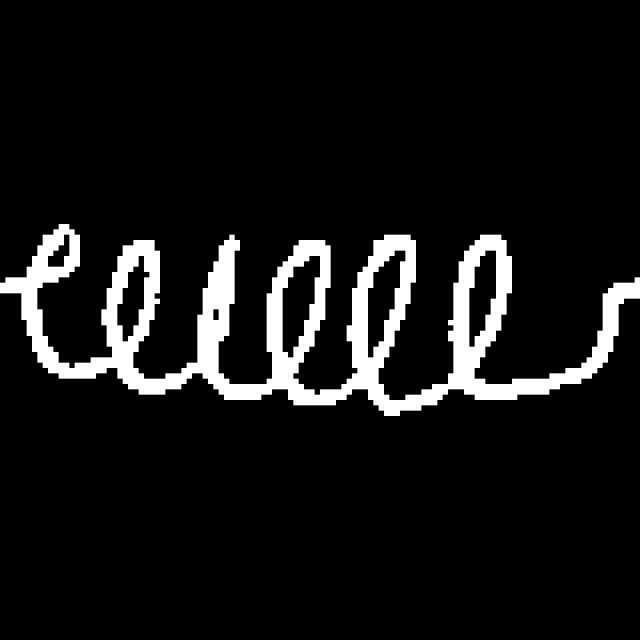inductor: (18, 210, 619, 429)
